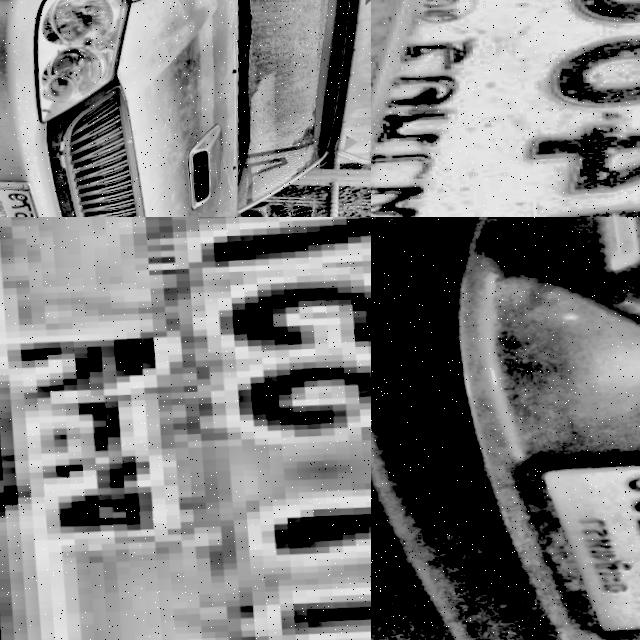license-plate: (0, 217, 371, 640), (371, 0, 640, 217), (536, 470, 640, 632), (0, 175, 54, 217)
